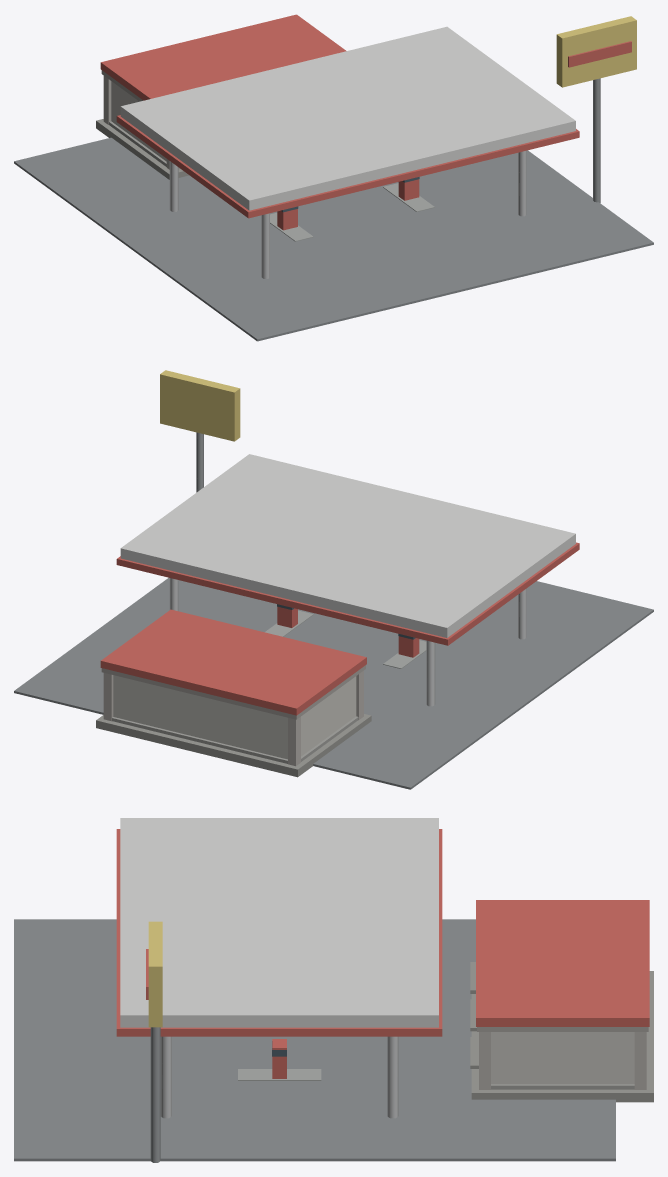
3 views of the same model, one above another, from view 1: azimuth 30°, elevation 25°; view 2: azimuth 150°, elevation 25°; view 3: azimuth 270°, elevation 25° (orthographic). The views are drawn at different scales.
Visible parts, largest first — view 1: Visual; view 2: Visual; view 3: Visual.
Boxes of the visible parts, bbox=[...] form: Visual: bbox=[14, 14, 653, 341]; Visual: bbox=[14, 370, 653, 789]; Visual: bbox=[14, 818, 653, 1162].
Bounding box in the file's own units: 59.52 × 23 × 61.46.
